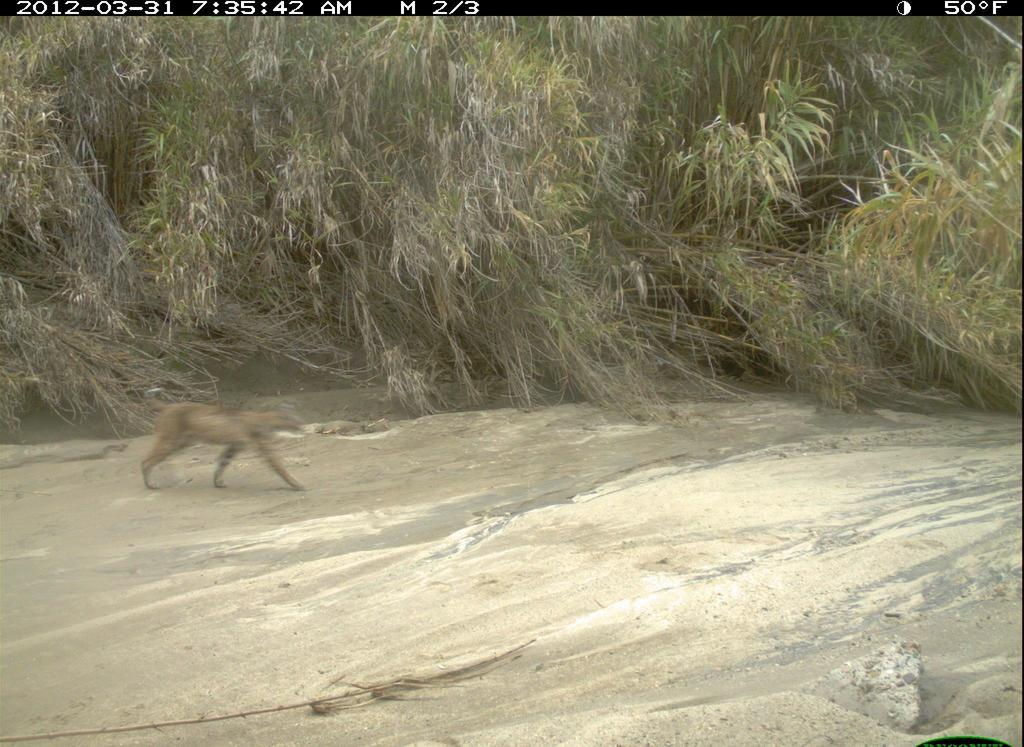bobcat: (131, 381, 332, 506)
